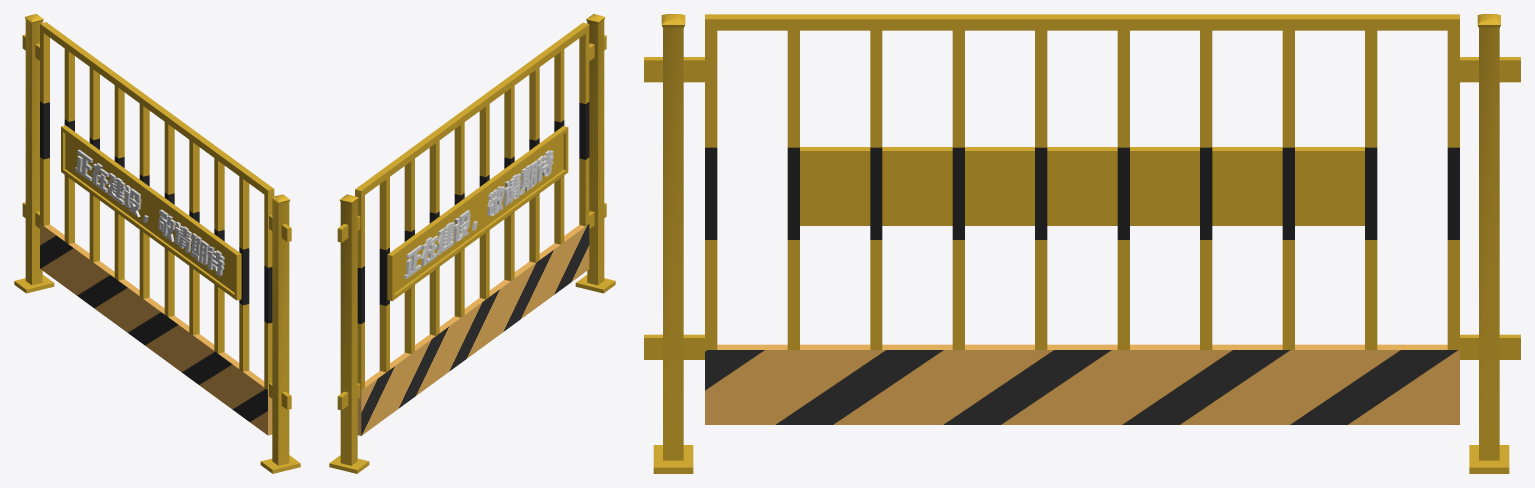
The model's file is weilan.fbx.
The picture shows the model from 3 angles, left to right: view 1: azimuth 30°, elevation 25°; view 2: azimuth 150°, elevation 25°; view 3: azimuth 270°, elevation 25°; orthographic projection. The views are drawn at different scales.
Parts seen in each view (by area): view 1: 立方体_1, 立方体_6, 文本_1, 立方体_2; view 2: 立方体_1, 立方体_6, 文本_1, 立方体_2; view 3: 立方体_1, 立方体_6, 立方体_2.
Boxes of the visible parts, left/top/right/bottom form: 立方体_1: left=14, top=14, right=300, bottom=473; 立方体_6: left=40, top=223, right=272, bottom=435; 文本_1: left=75, top=149, right=224, bottom=276; 立方体_2: left=40, top=101, right=272, bottom=323; 立方体_1: left=329, top=14, right=615, bottom=473; 立方体_6: left=357, top=224, right=589, bottom=435; 文本_1: left=404, top=150, right=553, bottom=278; 立方体_2: left=357, top=102, right=589, bottom=323; 立方体_1: left=644, top=14, right=1520, bottom=473; 立方体_6: left=705, top=344, right=1459, bottom=424; 立方体_2: left=705, top=147, right=1459, bottom=239.
Size of the model in its own units: 13 by 120 by 214.
3 materials, 1 textured.
